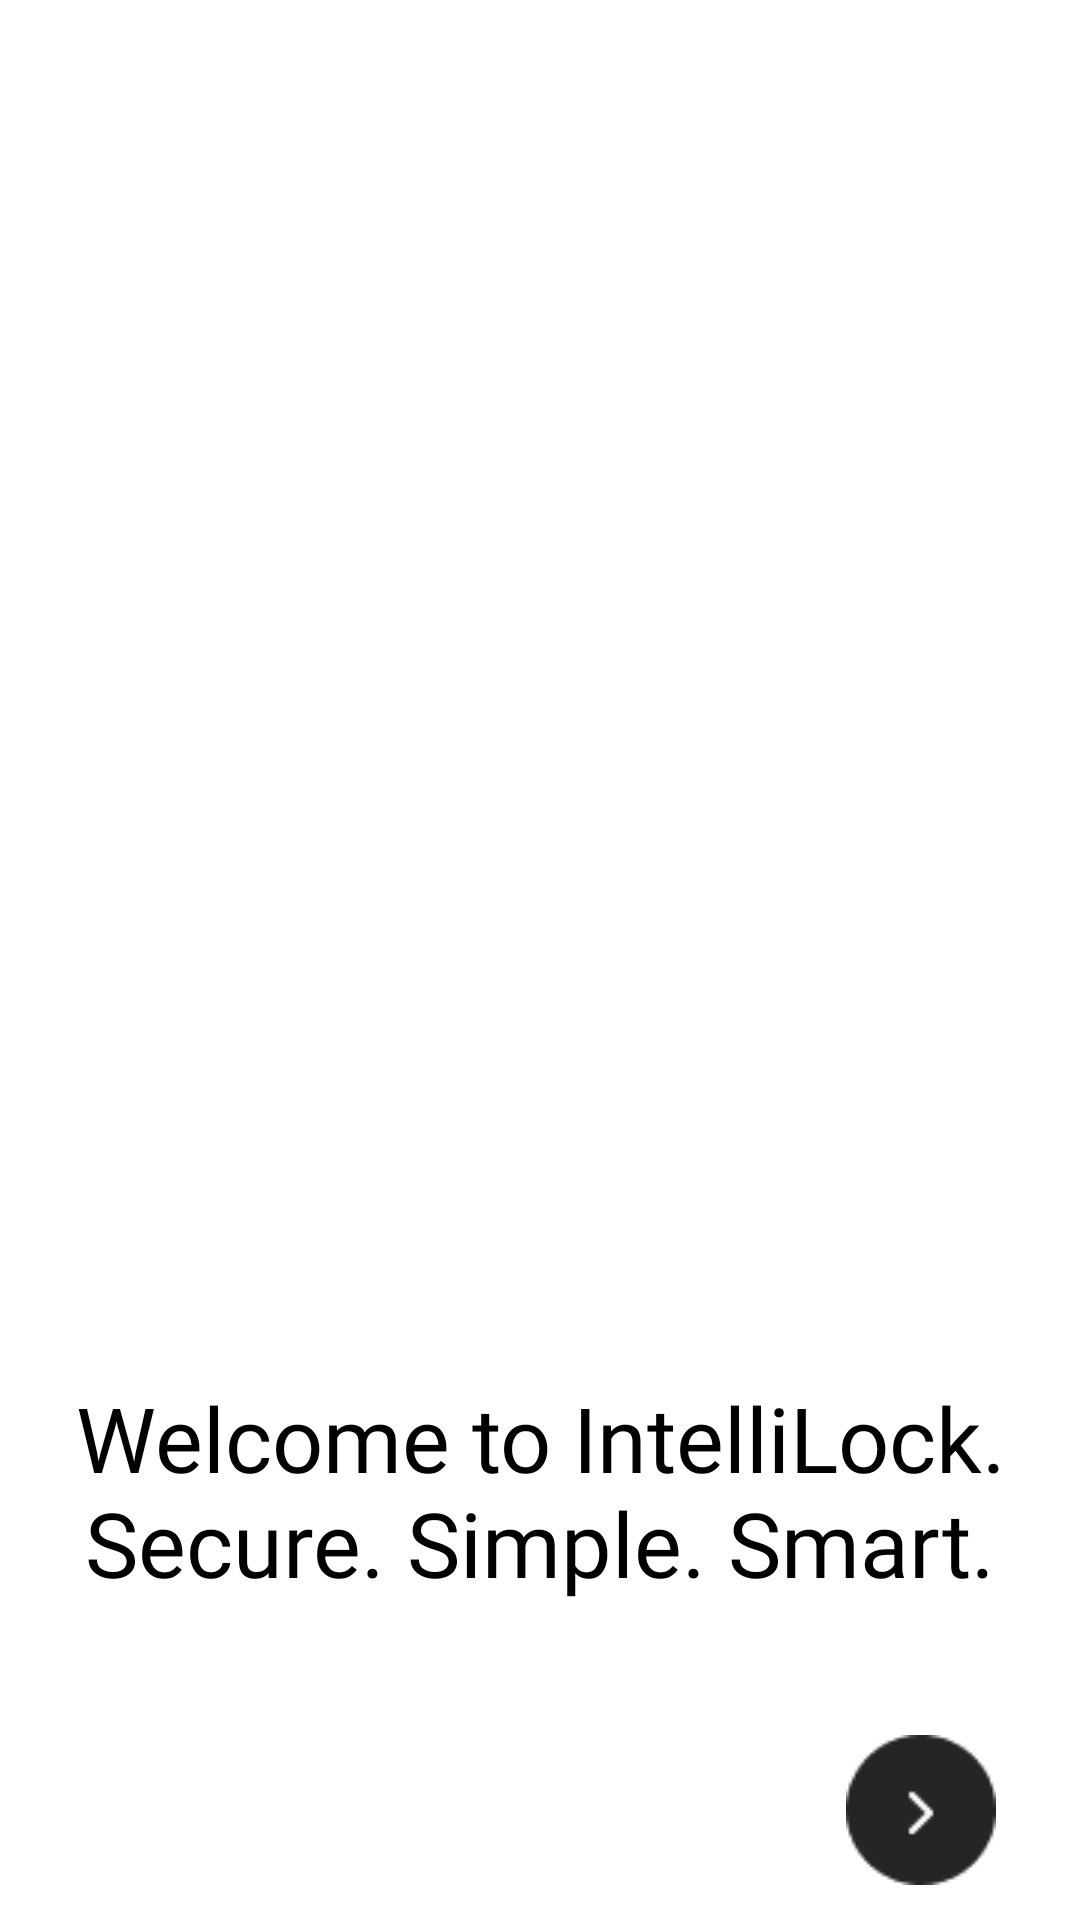

Locate icon controls on the screen. Image size 1080px x 1920px, boxes as [x1, y1, x2, y2].
next: [846, 1735, 996, 1885]
